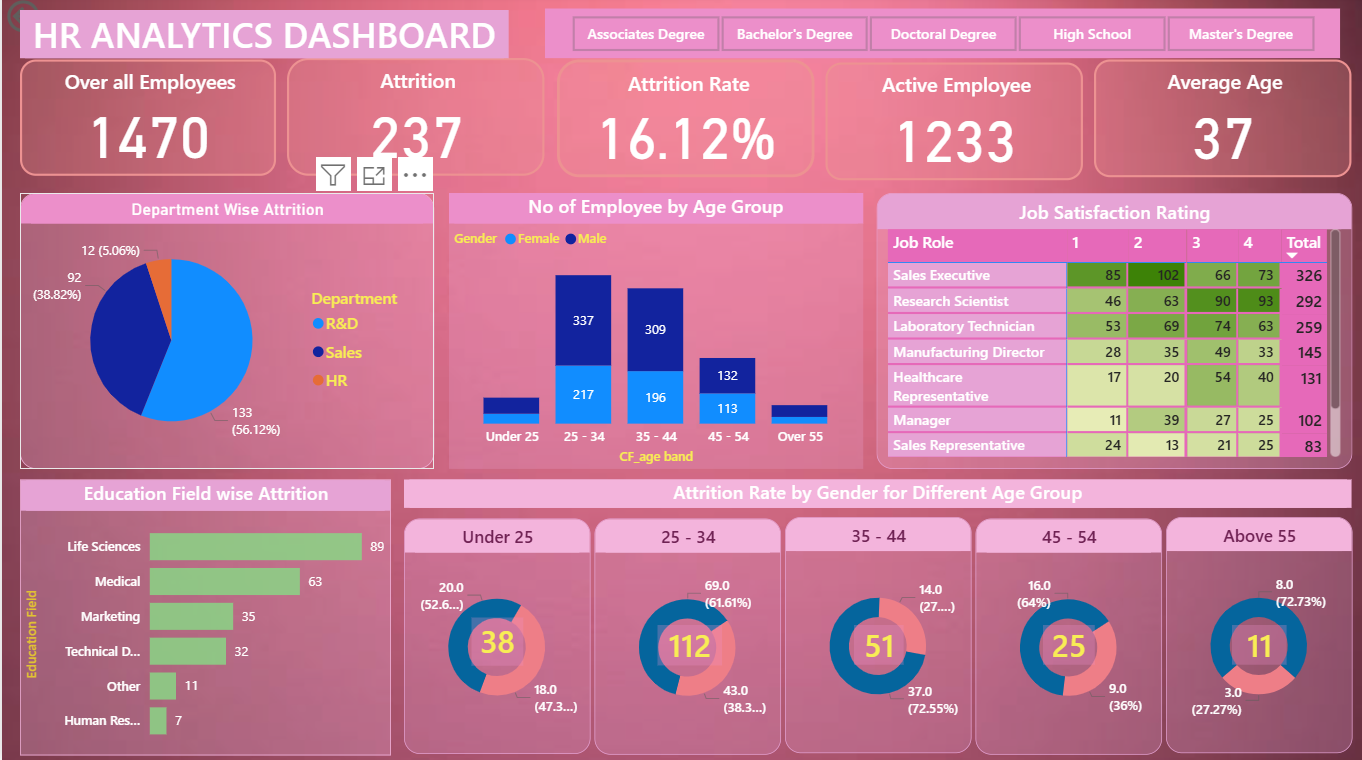

The page's visual inventory and layout, read from the dashboard file:
{"tool":"powerbi","page":{"name":"Page 1","canvas":[1280,720],"ordinal":0},"visuals":[{"type":"card","title":"Over all Employees","fields":{"Values":["Sum(Data.Employee Count)"]},"box":[17.2,61,240.7,109.4],"z":0},{"type":"card","title":"Attrition","fields":{"Values":["Sum(Data.Attrition Count)"]},"box":[268.4,59.4,242.3,111],"z":1000},{"type":"card","title":"Attrition Rate","fields":{"Values":["Data.Attrition Rate"]},"box":[521.3,61,242.3,111],"z":2000},{"type":"card","title":"Active Employee","fields":{"Values":["Data.Active Employee"]},"box":[774.1,64.1,242.3,111],"z":3000},{"type":"card","title":"Average Age","fields":{"Values":["Avg(Data.Age)"]},"box":[1026.9,61,242.3,111],"z":4000},{"type":"actionButton","box":[0,0,100,40],"z":5000},{"type":"pieChart","title":"Department Wise Attrition","fields":{"Category":["Data.Department"],"Y":["Sum(Data.Attrition Count)"]},"box":[17.2,186,389.2,259.5],"z":6000},{"type":"columnChart","title":"No of  Employee by Age Group","fields":{"Category":["Data.CF_age band"],"Y":["Sum(Data.Employee Count)"],"Series":["Data.Gender"]},"box":[420.4,186,389.2,259.5],"z":7000},{"type":"pivotTable","title":"Job Satisfaction Rating","fields":{"Rows":["Data.Job Role"],"Columns":["Data.Job Satisfaction"],"Values":["Sum(Data.Employee Count)"]},"box":[822.1,186,447,259.5],"z":8000},{"type":"barChart","title":"Education Field wise Attrition","fields":{"Category":["Data.Education Field"],"Y":["Sum(Data.Attrition Count)"]},"box":[17.2,454.8,348.5,259.5],"z":9000},{"type":"donutChart","title":"Under 25","fields":{"Category":["Data.Gender"],"Y":["Sum(Data.Attrition Count)"],"Series":["Data.CF_age band"]},"box":[378.2,492.3,175,221],"z":10000},{"type":"textbox","title":"Attrition Rate by Gender for Different Age Group","box":[378.2,454.8,890.9,26.6],"z":11000},{"type":"donutChart","title":"25 - 34","fields":{"Category":["Data.Gender"],"Y":["Sum(Data.Attrition Count)"],"Series":["Data.CF_age band"]},"box":[557.2,492.3,175.1,221.9],"z":12000},{"type":"donutChart","title":"35 - 44","fields":{"Category":["Data.Gender"],"Y":["Sum(Data.Attrition Count)"],"Series":["Data.CF_age band"]},"box":[736.1,490.8,175.1,221.9],"z":13000},{"type":"donutChart","title":"45 - 54","fields":{"Category":["Data.Gender"],"Y":["Sum(Data.Attrition Count)"],"Series":["Data.CF_age band"]},"box":[915.1,492.3,175.1,221.9],"z":14000},{"type":"donutChart","title":"Above 55","fields":{"Category":["Data.Gender"],"Y":["Sum(Data.Attrition Count)"],"Series":["Data.CF_age band"]},"box":[1094.1,490.8,175.1,221.9],"z":15000},{"type":"card","fields":{"Values":["Sum(Data.Attrition Count)"]},"box":[440.8,584.6,48.5,45.3],"z":16000},{"type":"card","fields":{"Values":["Sum(Data.Attrition Count)"]},"box":[616.1,591.5,60.5,37.8],"z":17000},{"type":"card","fields":{"Values":["Sum(Data.Attrition Count)"]},"box":[800.2,592.4,46.9,37.5],"z":18000},{"type":"card","fields":{"Values":["Sum(Data.Attrition Count)"]},"box":[978.4,592.4,48.5,37.5],"z":19000},{"type":"card","fields":{"Values":["Sum(Data.Attrition Count)"]},"box":[1156.6,592.4,51.6,37.5],"z":20000},{"type":"textbox","title":"HR ANALYTICS DASHBOARD","box":[17.2,14.1,459.5,45.3],"z":21000},{"type":"slicer","fields":{"Values":["Data.Education"]},"box":[511.1,12.5,747.1,46.9],"z":22000}]}

Visuals, with their boxes in screenshot pixels (x1, y1, x2, y2), scaled from the page's 1280x720 canvas onto the 1362x760 screenshot:
"Over all Employees" card: crop(18, 64, 274, 180)
"Attrition" card: crop(286, 63, 543, 180)
"Attrition Rate" card: crop(555, 64, 813, 182)
"Active Employee" card: crop(824, 68, 1082, 185)
"Average Age" card: crop(1093, 64, 1351, 182)
actionButton: crop(0, 0, 106, 42)
"Department Wise Attrition" pieChart: crop(18, 196, 432, 470)
"No of  Employee by Age Group" columnChart: crop(447, 196, 861, 470)
"Job Satisfaction Rating" pivotTable: crop(875, 196, 1350, 470)
"Education Field wise Attrition" barChart: crop(18, 480, 389, 754)
"Under 25" donutChart: crop(402, 520, 589, 753)
"Attrition Rate by Gender for Different Age Group" textbox: crop(402, 480, 1350, 508)
"25 - 34" donutChart: crop(593, 520, 779, 754)
"35 - 44" donutChart: crop(783, 518, 970, 752)
"45 - 54" donutChart: crop(974, 520, 1160, 754)
"Above 55" donutChart: crop(1164, 518, 1351, 752)
card - Sum(Data.Attrition Count): crop(469, 617, 521, 665)
card - Sum(Data.Attrition Count): crop(656, 624, 720, 664)
card - Sum(Data.Attrition Count): crop(851, 625, 901, 665)
card - Sum(Data.Attrition Count): crop(1041, 625, 1093, 665)
card - Sum(Data.Attrition Count): crop(1231, 625, 1286, 665)
"HR ANALYTICS DASHBOARD" textbox: crop(18, 15, 507, 63)
slicer - Data.Education: crop(544, 13, 1339, 63)
